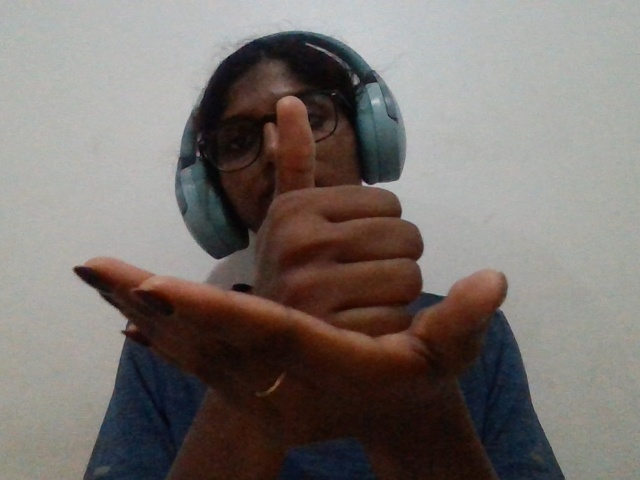Help: (45, 50, 547, 477)
